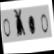correct: (28, 13, 37, 35)
not correct: (13, 7, 26, 40)
